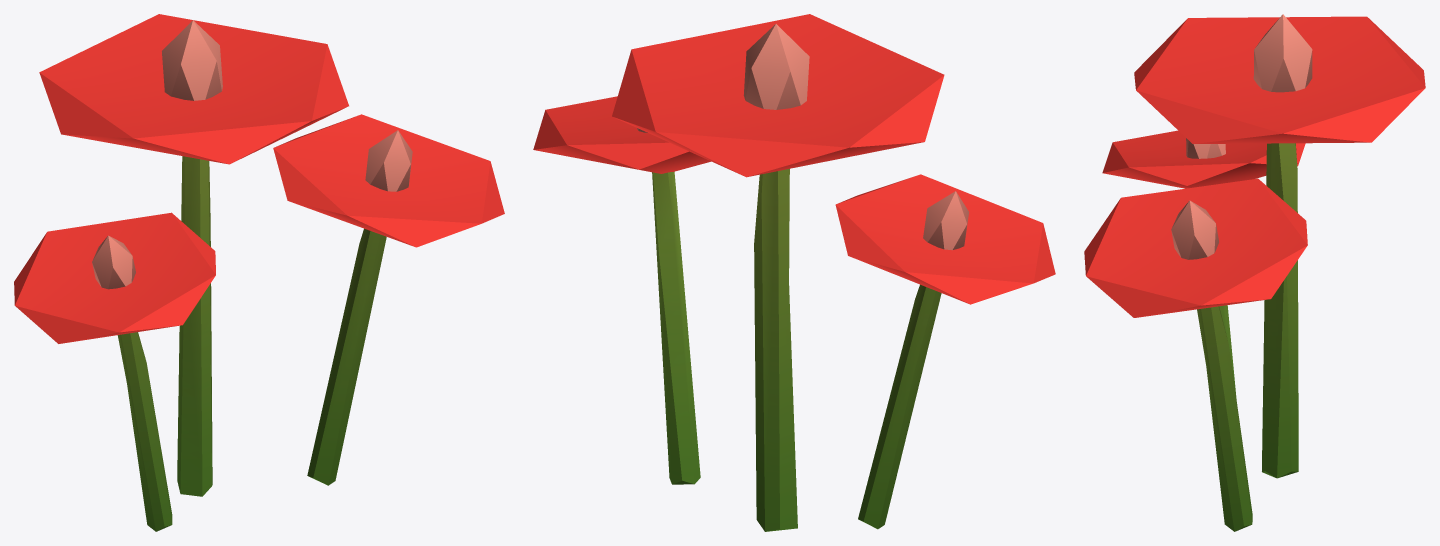
Rendered from Flower_10.fbx.
3 renders of one model, left to right at view 1: azimuth 30°, elevation 25°; view 2: azimuth 150°, elevation 25°; view 3: azimuth 270°, elevation 25°, orthographic. The views are drawn at different scales.
Parts seen in each view (by area): view 1: Flower_10; view 2: Flower_10; view 3: Flower_10.
Boxes of the visible parts, <box> form: Flower_10: <box>14,14,504,531</box>; Flower_10: <box>533,14,1055,531</box>; Flower_10: <box>1084,14,1425,531</box>.
Bounding box in the file's own units: 23.53 × 22.83 × 15.29.
